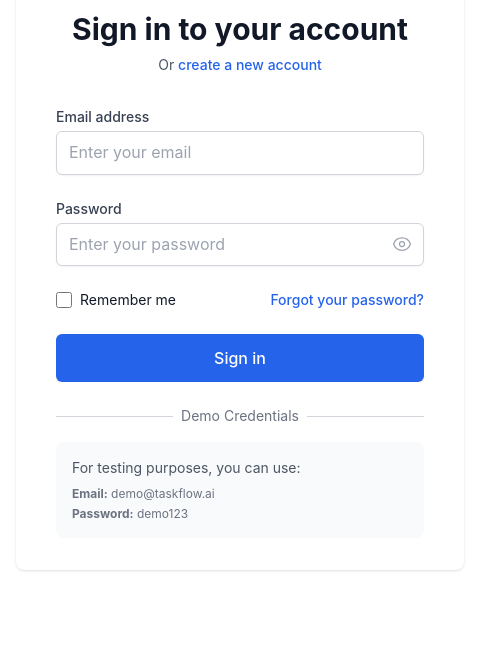
Test case: LoginForm Component › handles login failure
The image size is (481, 666).
Type "test@example.com" into the field labelled "Email address" at (240, 153), box [56, 131, 424, 175]
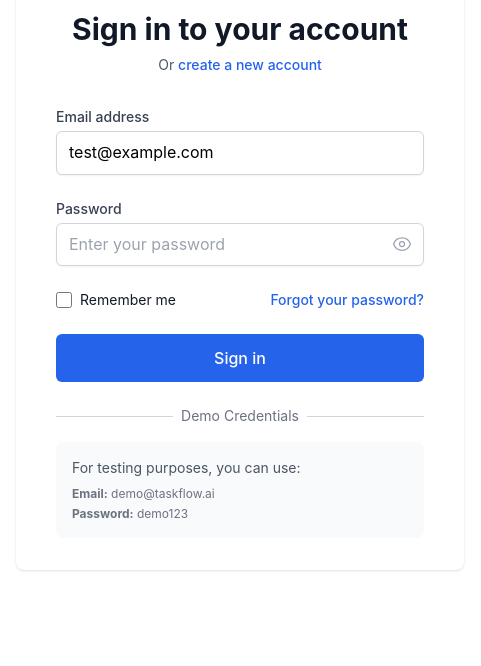
Type "wrongpassword" into the password field labelled "Password" at (240, 244), box [56, 223, 424, 266]
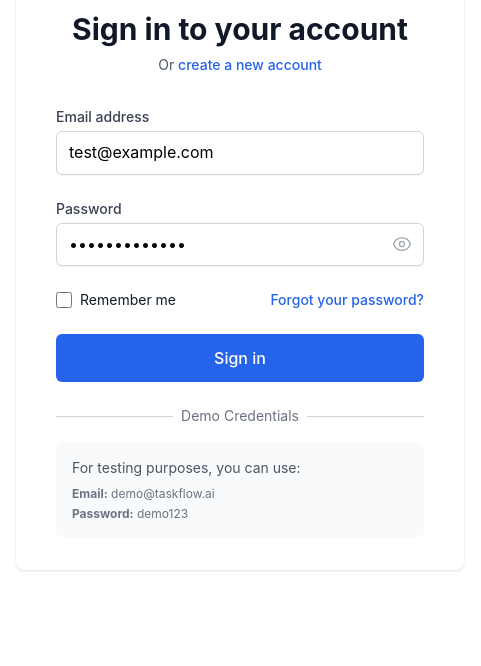
Click the button "Sign in" at (240, 358), box [56, 334, 424, 382]
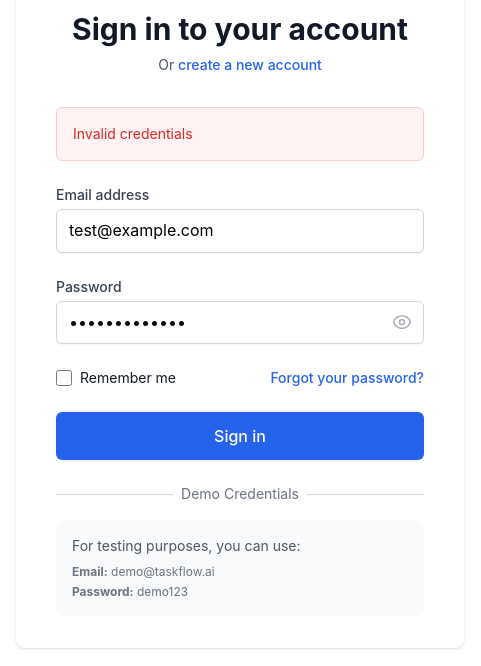
Now the text "Invalid credentials" is shown, box [73, 125, 193, 142]
